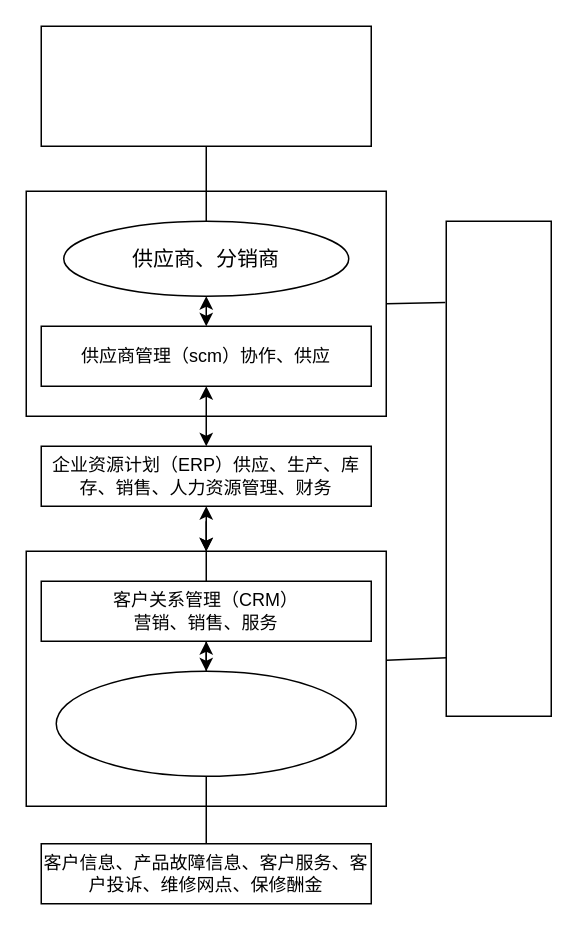
Image size: 578x930. Some labels were removed from this diagram. The box of each missing label's shape, as (x1, y1, x2, y2) in pixels:
B2C支付和B2B支付: (445, 220, 551, 716)
供应商选择、供应商信息、供应商评价、 销售网点、销售评价、订单跟踪: (40, 25, 371, 146)
客户: (55, 670, 356, 776)
